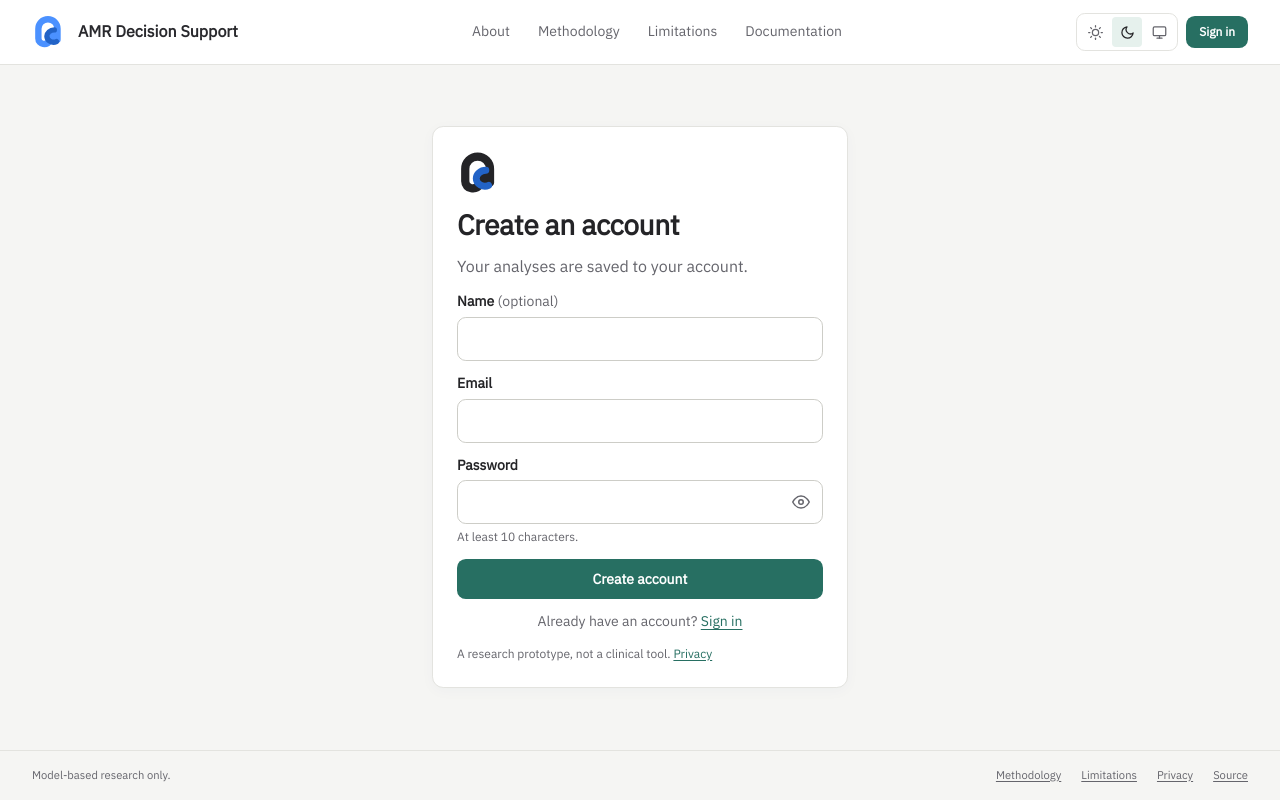
it: email and password authentication › keeps registration outside the workspace until the email code is verified
The width and height of the screenshot is (1280, 800).
Type "Ada Researcher" into the field labelled "Name (optional)" at (640, 339), box top-left (457, 317), bottom-right (823, 361)
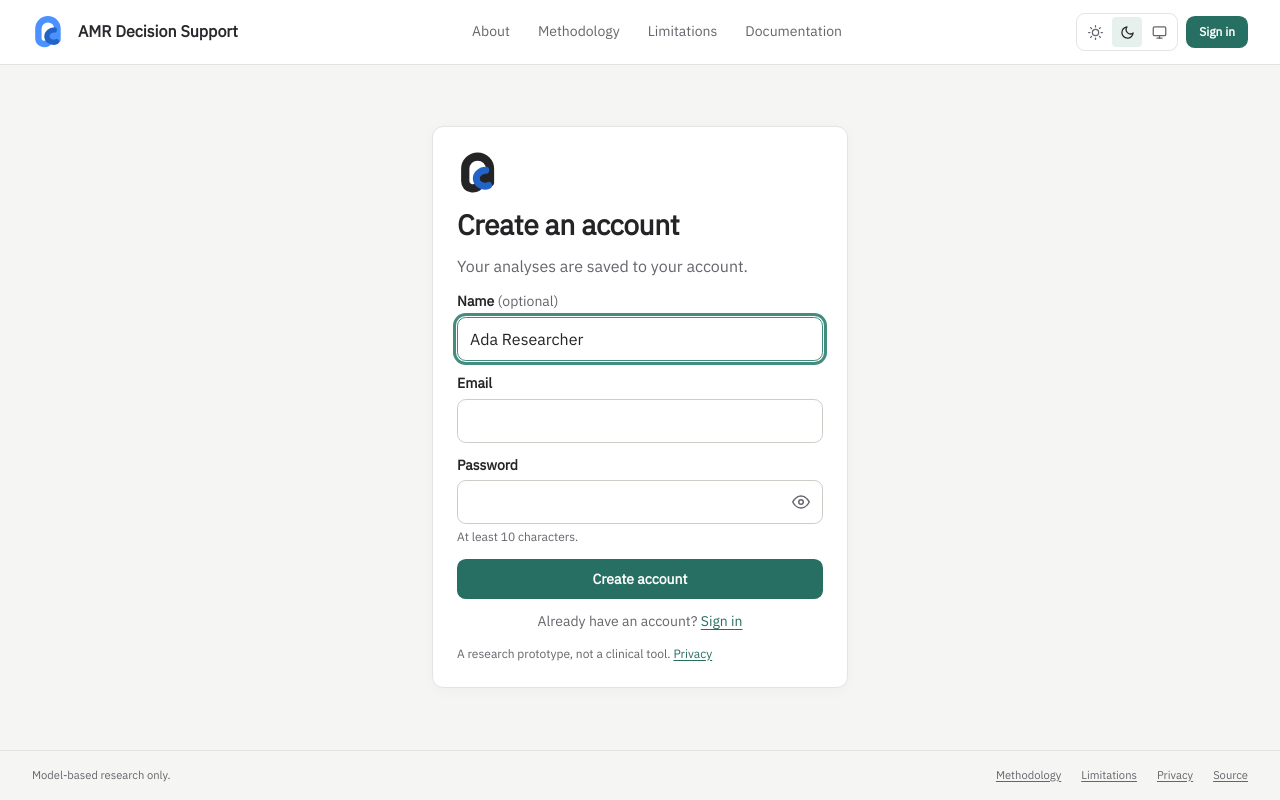
Type "ada.researcher+amr@gmail.com" into the field labelled "Email" at (640, 421), box top-left (457, 399), bottom-right (823, 443)
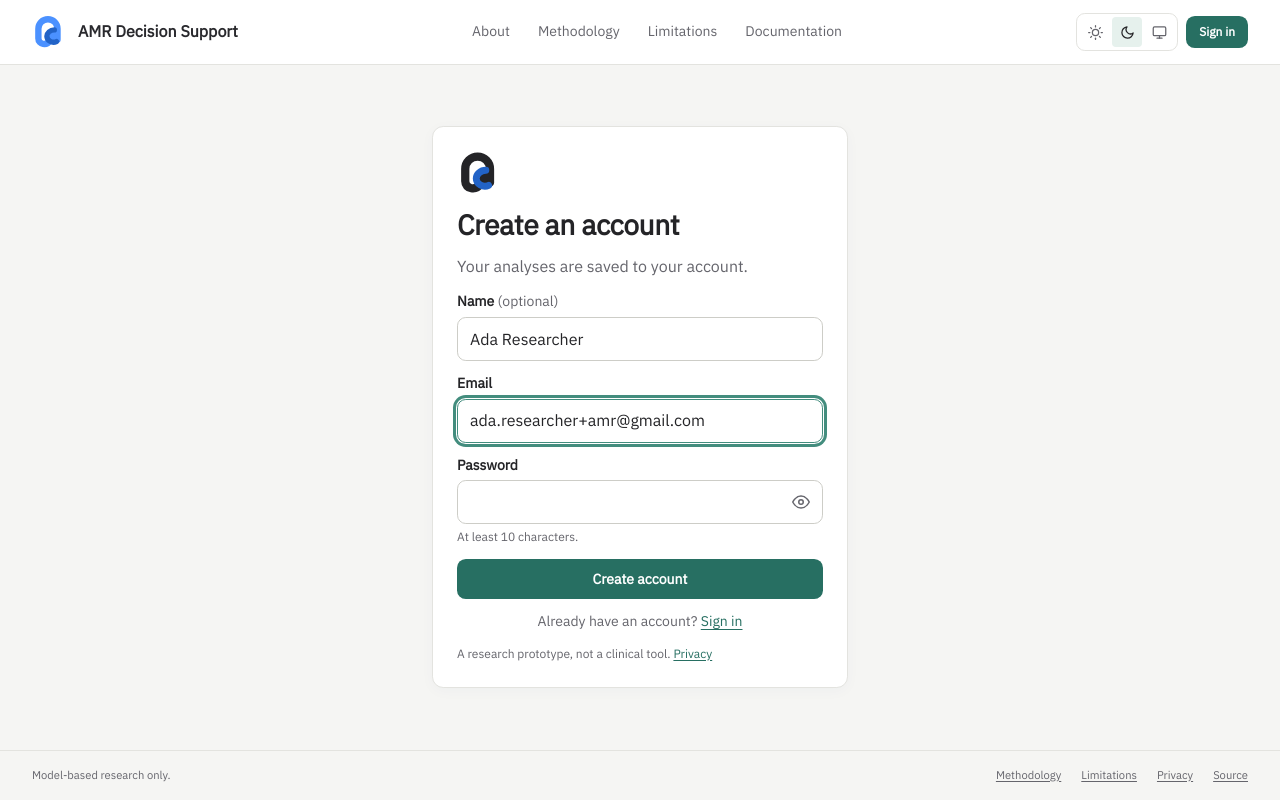
Type "a long enough password" into the password field labelled "Password" at (640, 502), box top-left (457, 480), bottom-right (823, 524)
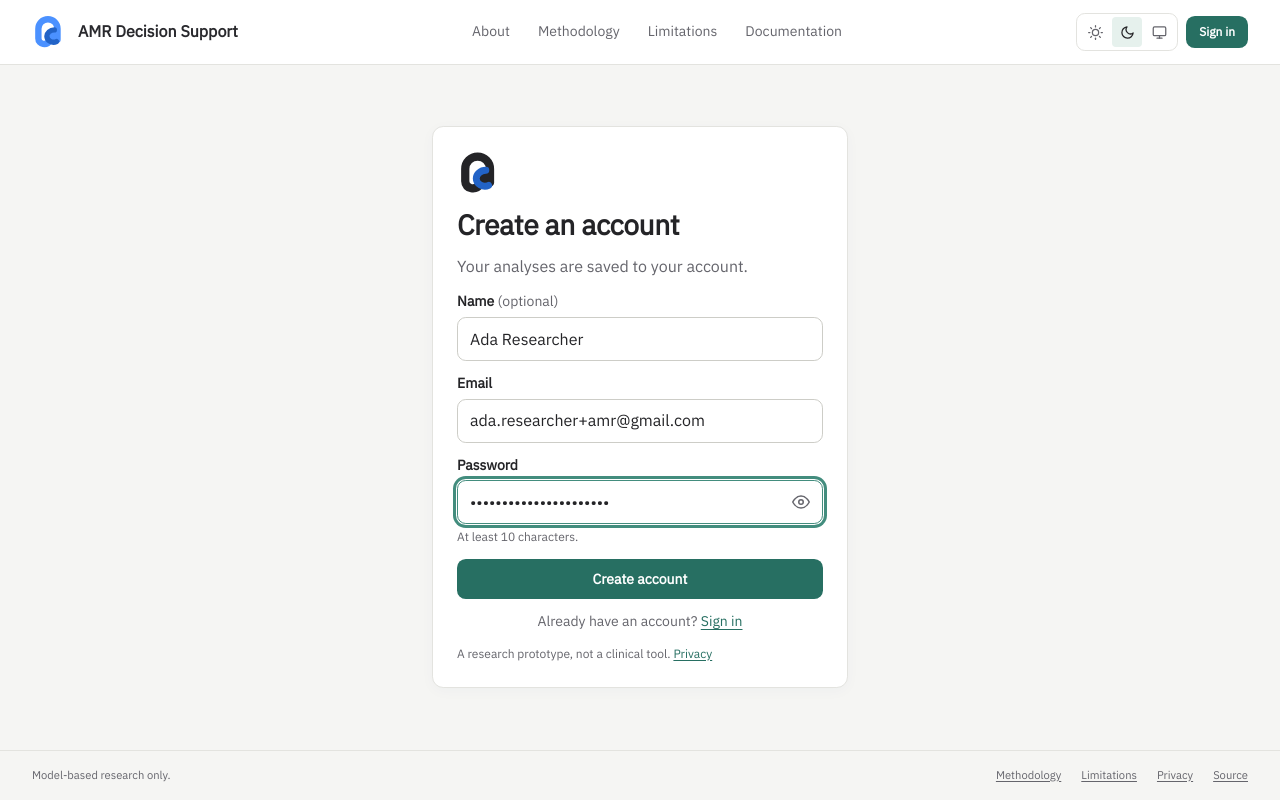
Click the button "Create account" at (640, 579), box top-left (457, 559), bottom-right (823, 599)
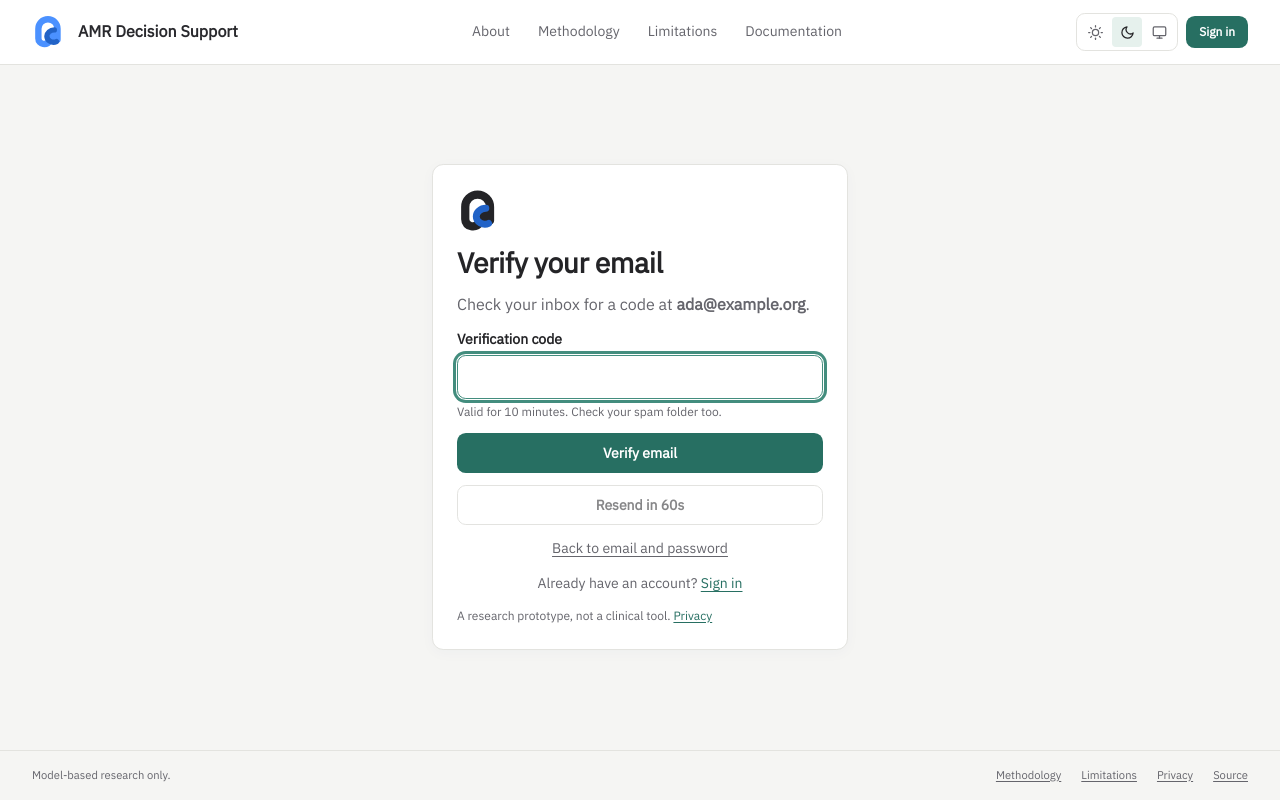
expect the heading "Verify your email" is shown: met, box top-left (457, 244), bottom-right (663, 281)
expect the button "Resend in 60s" is disabled: met, box top-left (457, 485), bottom-right (823, 525)
Type "012345" into the field labelled "Verification code" at (640, 377), box top-left (457, 355), bottom-right (823, 399)
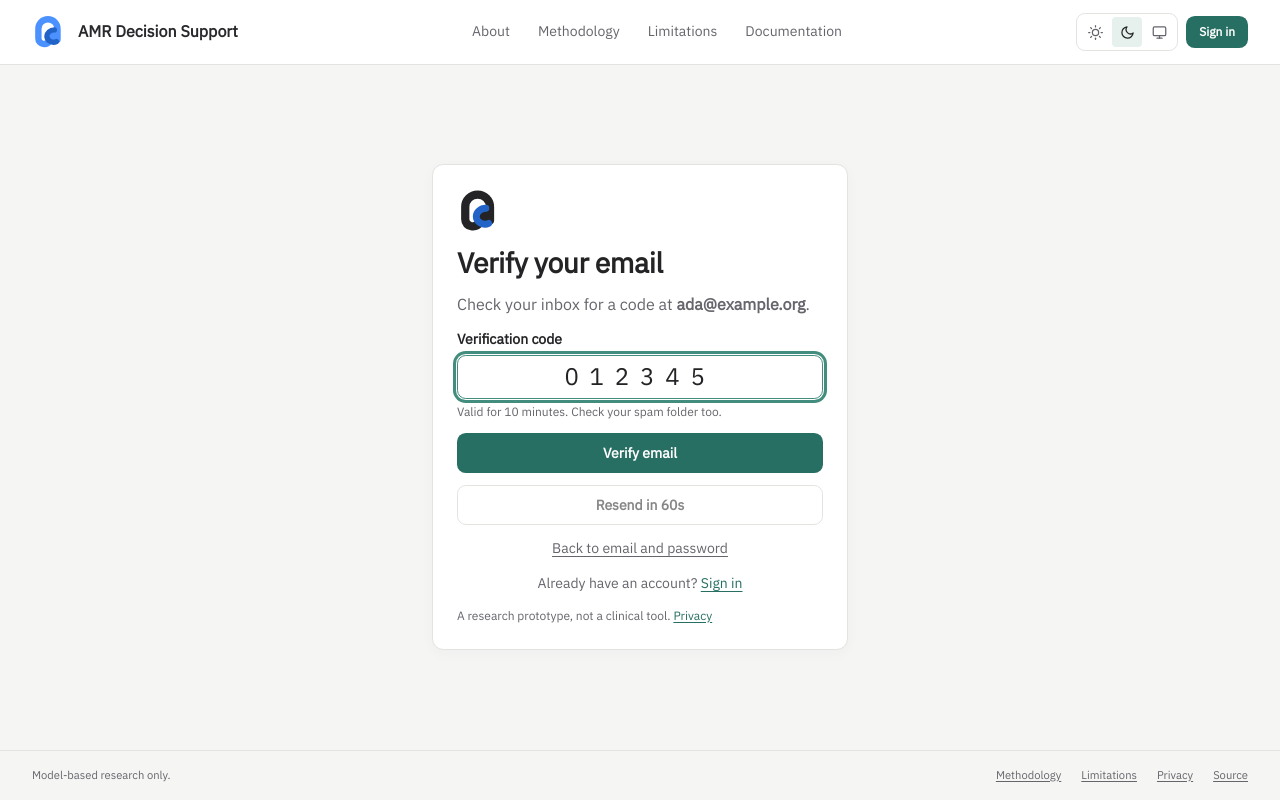
Click the button "Verify email" at (640, 453), box top-left (457, 433), bottom-right (823, 473)
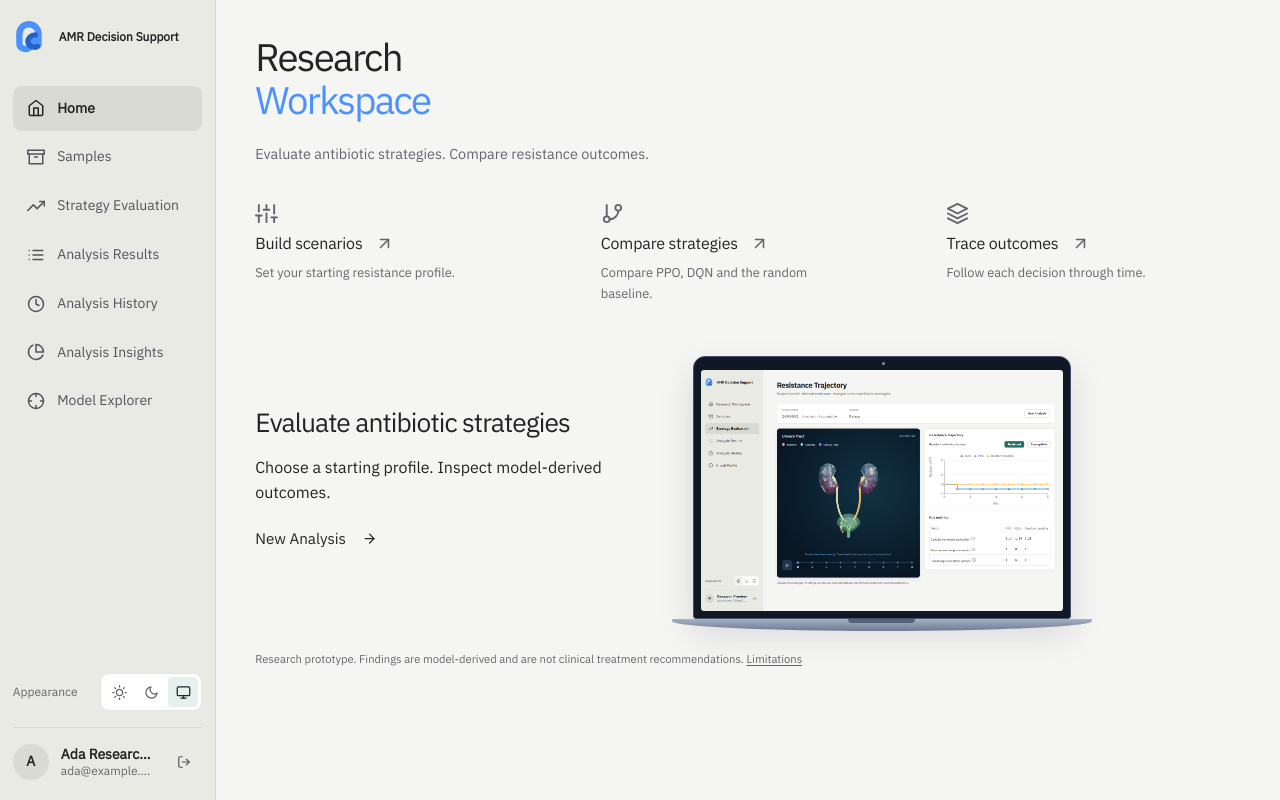
expect the 1st heading is shown: met, box top-left (255, 32), bottom-right (430, 125)
